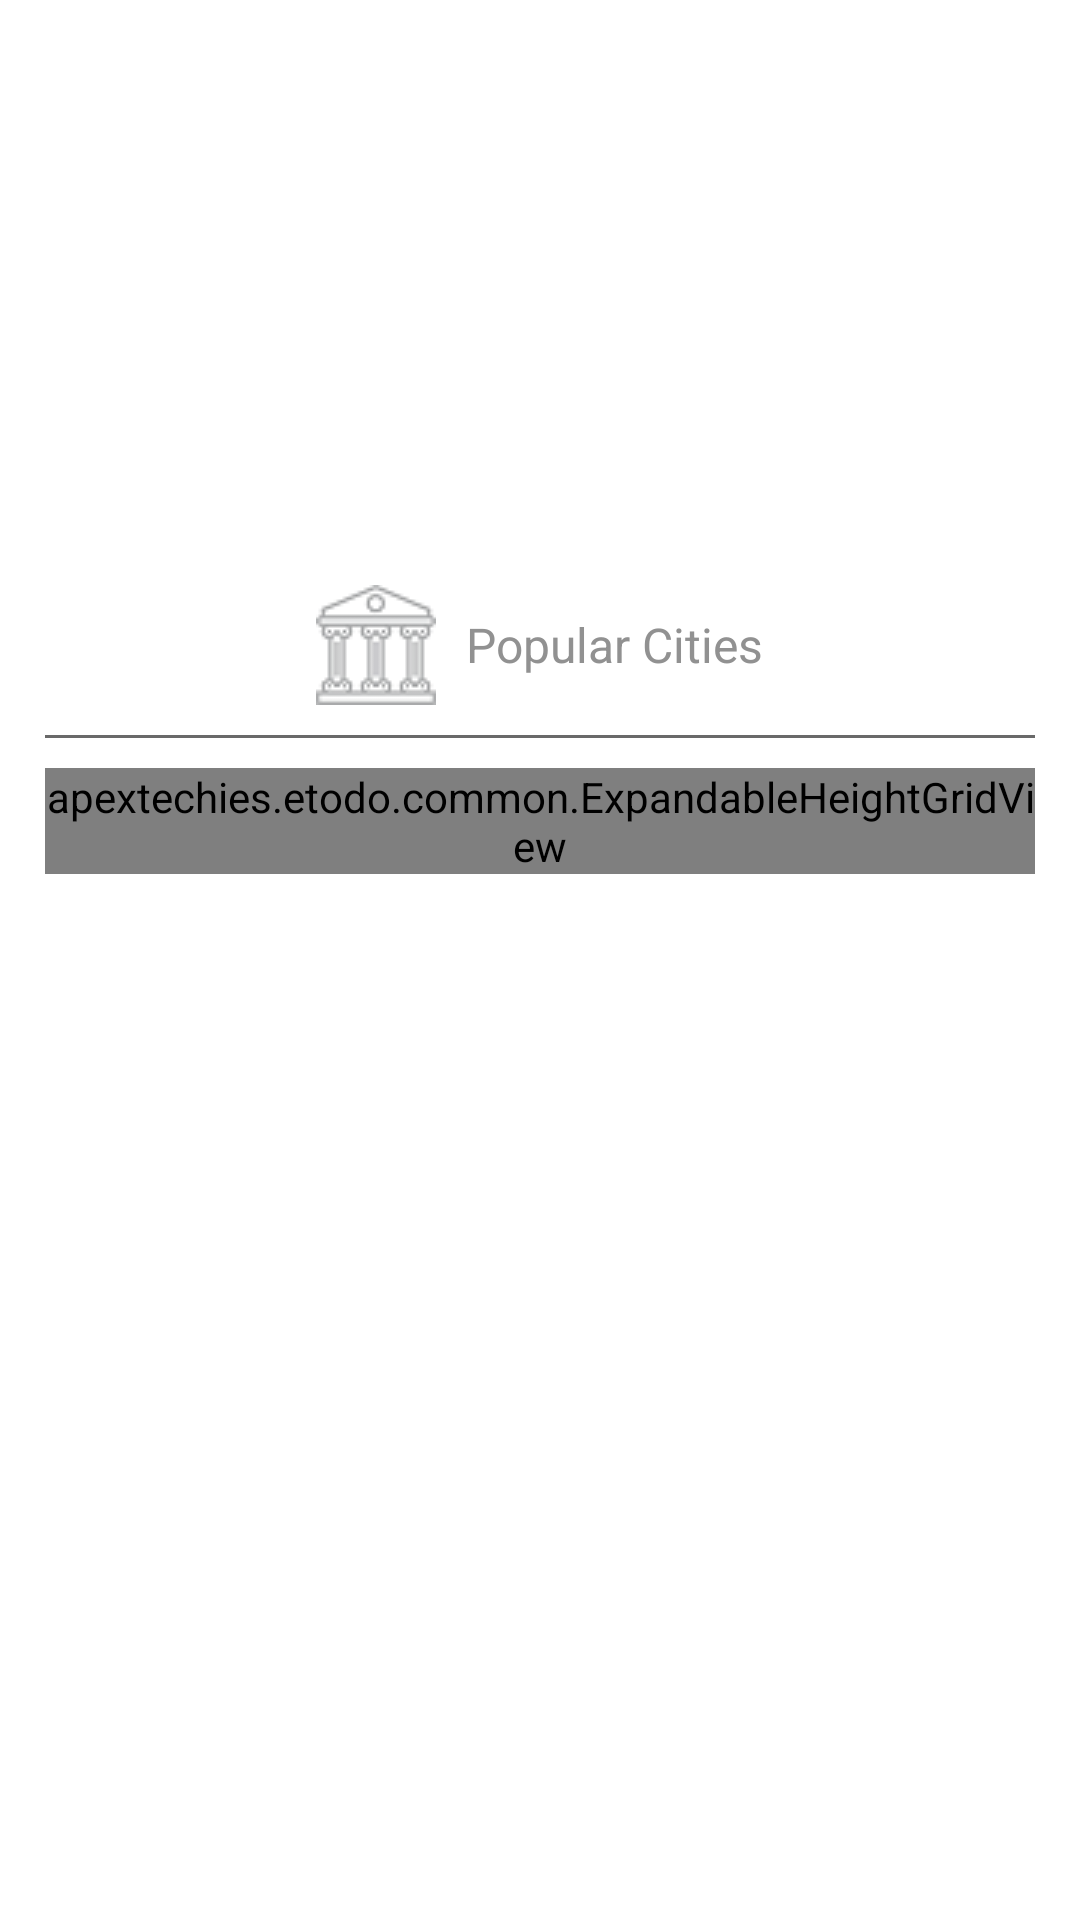

Screen size 1080px×1920px. Icon name, then its box in pixels as (x1, y1, x2, y2):
popularcity: (316, 585, 436, 705)
